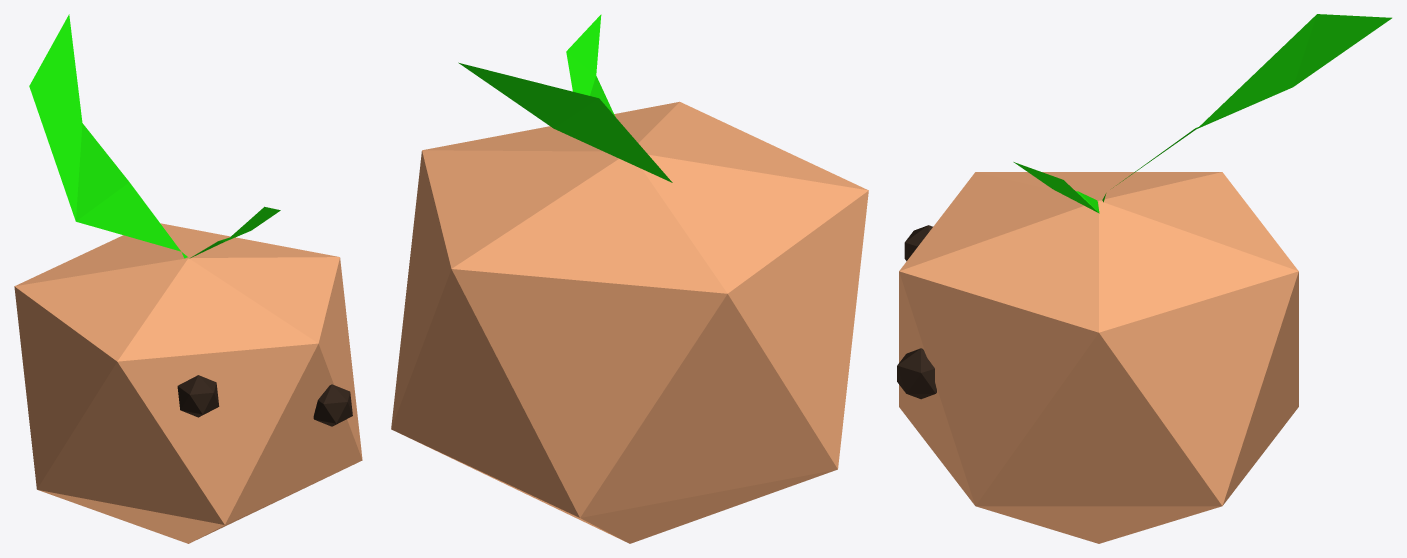
The model's file is Peach.fbx.
The picture shows the model from 3 angles, left to right: view 1: azimuth 30°, elevation 25°; view 2: azimuth 150°, elevation 25°; view 3: azimuth 270°, elevation 25°; orthographic projection. The views are drawn at different scales.
Parts seen in each view (by area): view 1: Body, Cone, Icosphere.001, Icosphere.002, Cone.001; view 2: Body, Cone, Cone.001; view 3: Body, Cone, Icosphere.002, Cone.001.
Boxes of the visible parts, x1=… form: Body: x1=14, y1=223, x2=362, y2=543; Cone: x1=29, y1=14, x2=187, y2=258; Icosphere.001: x1=177, y1=375, x2=219, y2=417; Icosphere.002: x1=313, y1=384, x2=352, y2=426; Cone.001: x1=189, y1=206, x2=280, y2=258; Body: x1=391, y1=101, x2=868, y2=543; Cone: x1=458, y1=62, x2=672, y2=182; Cone.001: x1=566, y1=14, x2=615, y2=116; Body: x1=899, y1=172, x2=1298, y2=543; Cone: x1=1102, y1=14, x2=1391, y2=202; Icosphere.002: x1=897, y1=348, x2=936, y2=399; Cone.001: x1=1013, y1=162, x2=1099, y2=213.
Bounding box in the file's own units: 179 × 248 × 211.
